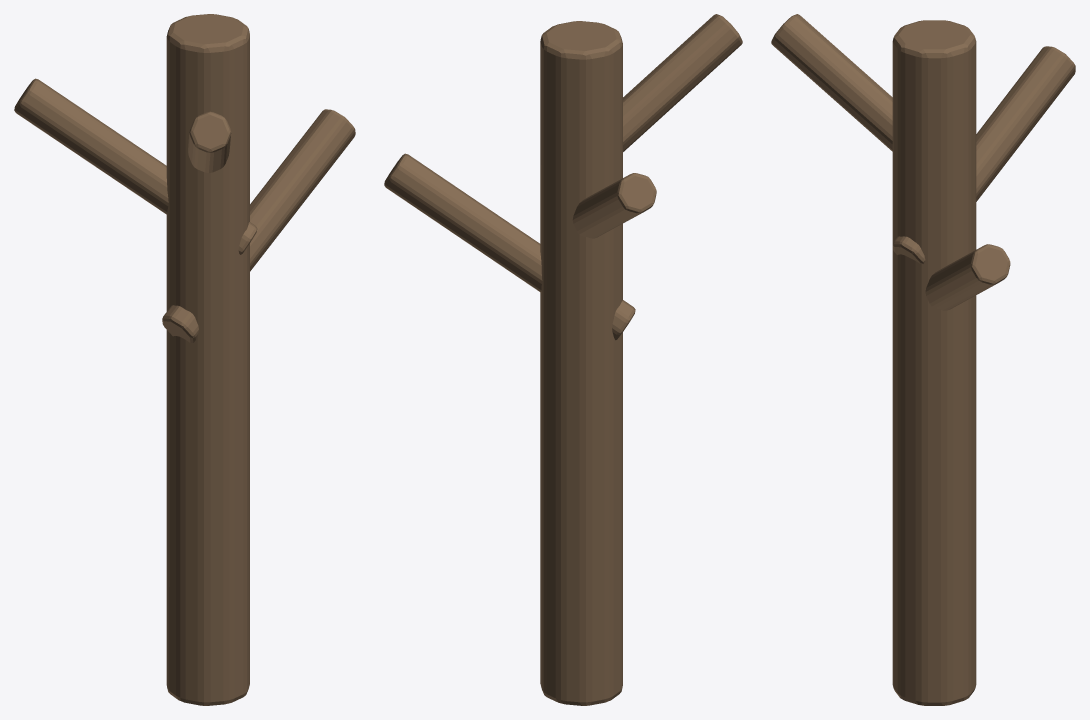
The model's file is dead_tree.glb.
The picture shows the model from 3 angles, left to right: view 1: azimuth 30°, elevation 25°; view 2: azimuth 150°, elevation 25°; view 3: azimuth 270°, elevation 25°; orthographic projection.
Parts seen in each view (by area): view 1: TreeBranch; view 2: TreeBranch; view 3: TreeBranch.
Boxes of the visible parts, x1=… form: TreeBranch: x1=14, y1=14, x2=355, y2=705; TreeBranch: x1=384, y1=14, x2=742, y2=705; TreeBranch: x1=771, y1=14, x2=1075, y2=705.
Size of the model in its own units: 2.59 by 5.4 by 2.27.
